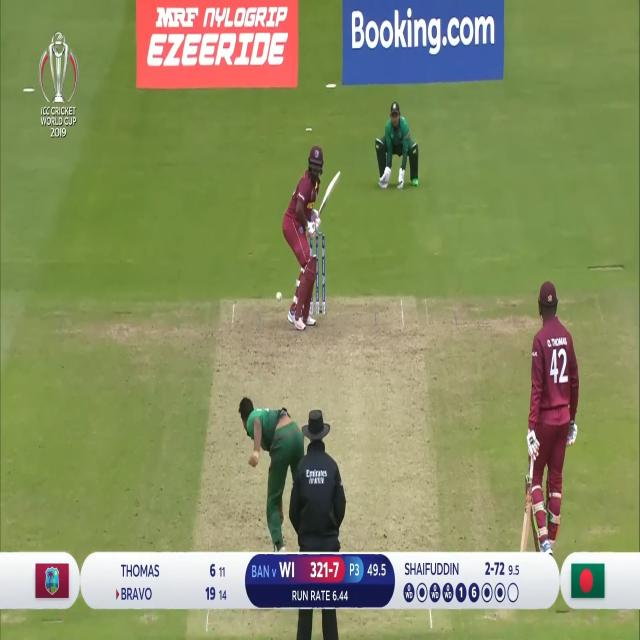ball: (274, 291, 283, 302)
